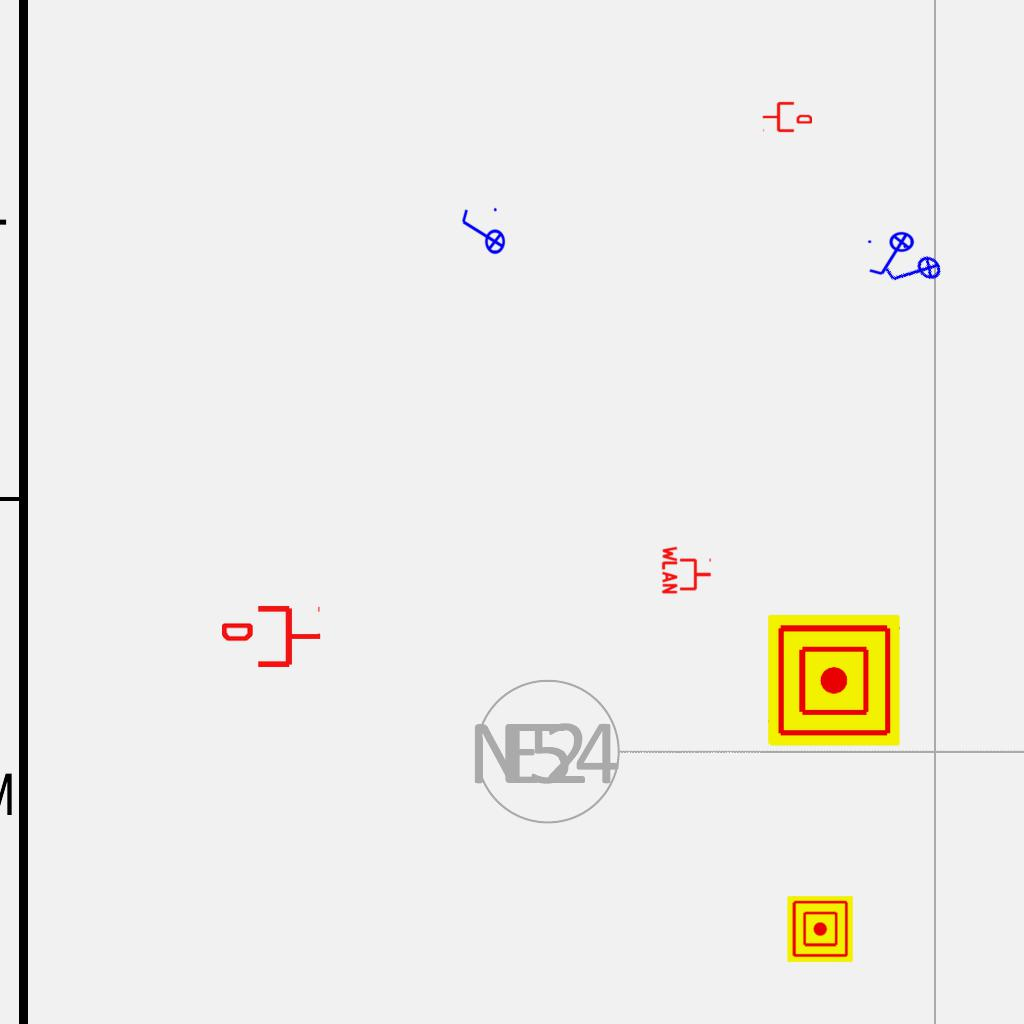Ausschalter_beleuchtet: (877, 235, 951, 309), (865, 231, 921, 279), (458, 205, 506, 261)
Datenanschluss_einfach: (222, 602, 322, 671), (762, 100, 812, 134)
NAM-Nichtautomatischer_Melder: (768, 614, 900, 746), (787, 896, 853, 962)
WLAN: (661, 544, 713, 596)
